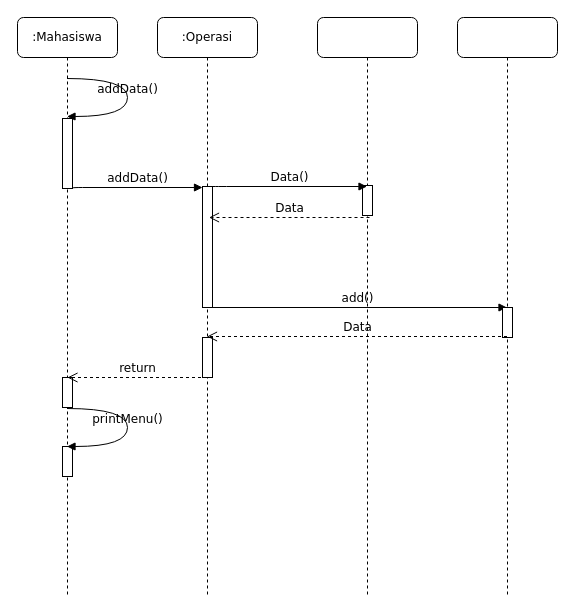
Image size: 575x615. Some labels were removed from this diagram. Here are the shapes that lost their labels. From the top down, the box of each, then its label:
(316, 16, 418, 598): :Data
(456, 16, 558, 598): :List<Data>
